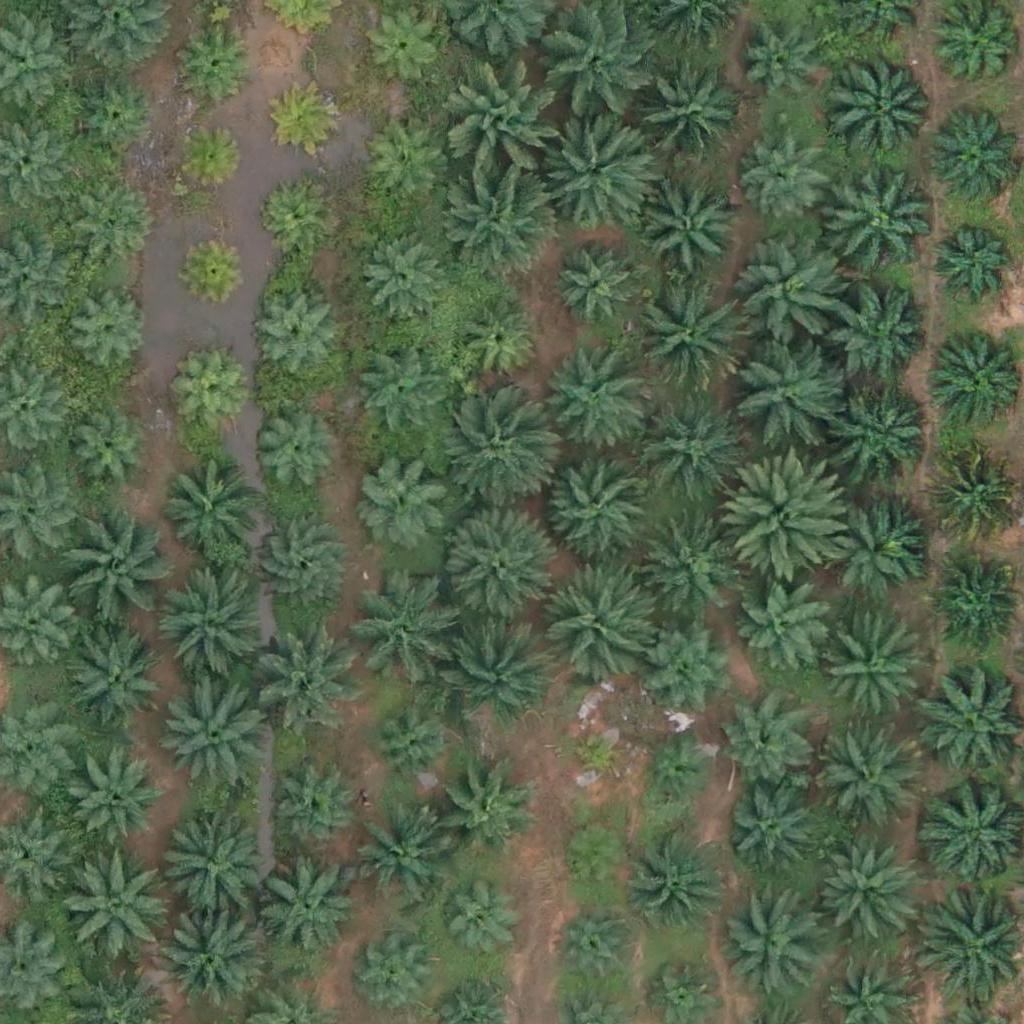Kelapa_Sawit: (726, 454, 851, 580), (728, 332, 841, 446), (152, 675, 265, 789), (629, 61, 742, 175), (630, 280, 743, 393), (634, 392, 747, 505), (541, 447, 654, 560), (438, 508, 551, 621), (157, 902, 270, 1015), (149, 806, 262, 919), (822, 163, 935, 276), (546, 7, 659, 120), (445, 165, 558, 278), (735, 238, 848, 351), (438, 610, 550, 724), (155, 571, 267, 685), (57, 848, 169, 962), (828, 48, 940, 162), (451, 69, 563, 183), (534, 348, 646, 461), (539, 565, 651, 678), (436, 399, 548, 512), (249, 616, 361, 729), (53, 510, 165, 623), (541, 112, 653, 225), (835, 384, 935, 485), (821, 621, 921, 722), (816, 733, 916, 834), (812, 841, 912, 942), (638, 513, 738, 614), (640, 614, 740, 715), (432, 762, 532, 863), (346, 811, 446, 912), (346, 583, 446, 684), (256, 859, 356, 960), (159, 459, 259, 560), (62, 627, 162, 728), (641, 177, 741, 278), (631, 828, 731, 929), (830, 291, 930, 391), (820, 491, 920, 591), (723, 893, 823, 993), (353, 449, 453, 549), (251, 517, 351, 617), (927, 449, 1015, 537), (720, 701, 808, 789), (453, 298, 541, 386), (367, 700, 455, 788), (248, 291, 336, 379), (74, 760, 162, 848), (70, 71, 158, 159), (70, 189, 158, 277), (934, 5, 1022, 93), (926, 218, 1014, 306), (553, 243, 641, 331), (361, 122, 449, 210), (723, 788, 810, 877), (353, 348, 440, 437), (930, 557, 1017, 645), (738, 581, 825, 669), (555, 903, 642, 991), (250, 407, 337, 495), (272, 769, 359, 857), (66, 287, 153, 375), (63, 411, 150, 499), (739, 32, 826, 120), (744, 137, 831, 225), (360, 231, 447, 319), (255, 177, 330, 253), (438, 886, 513, 962), (639, 734, 714, 810), (558, 821, 633, 897), (172, 357, 247, 433), (177, 230, 252, 306), (270, 81, 345, 157), (180, 23, 255, 98), (358, 941, 433, 1016), (172, 120, 247, 195), (565, 722, 627, 785)
